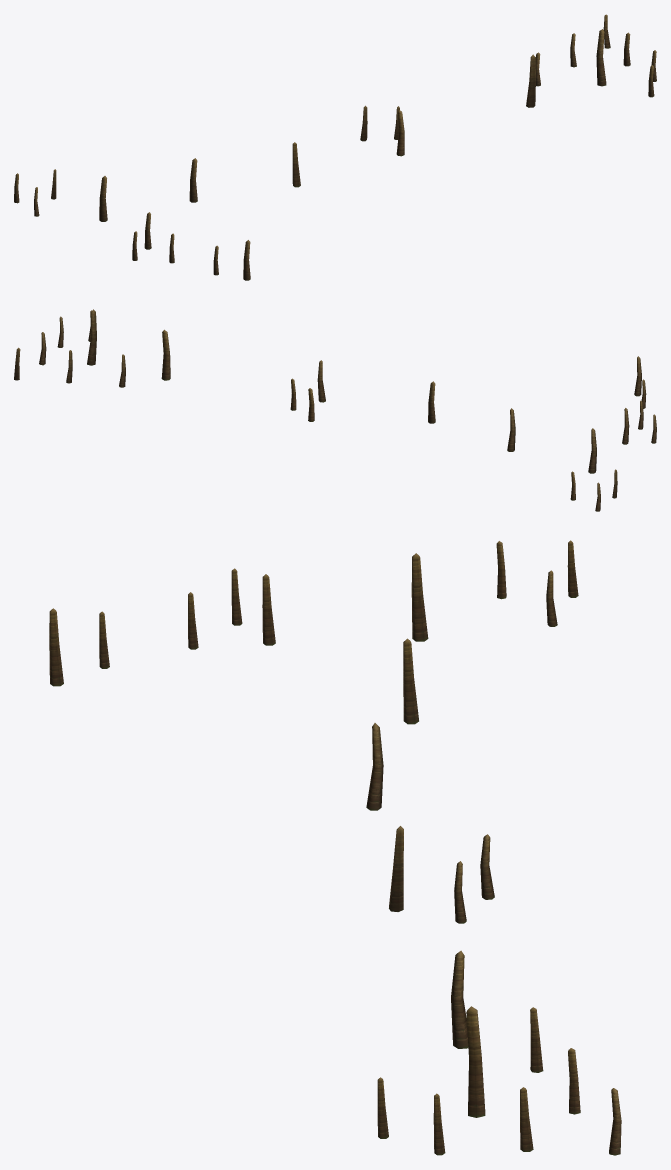
File: shugan01.fbx
The picture shows the model from 3 angles, top to bottom: view 1: azimuth 30°, elevation 25°; view 2: azimuth 150°, elevation 25°; view 3: azimuth 270°, elevation 25°; orthographic projection. The views are drawn at different scales.
Parts seen in each view (by area): view 1: shugan01; view 2: shugan01; view 3: shugan01.
Boxes of the visible parts, <box> form: shugan01: <box>14,14,656,280</box>; shugan01: <box>14,309,656,511</box>; shugan01: <box>49,540,621,1155</box>.
Size of the model in its own units: 10048 by 903 by 4324.
Materials: 1 (1 with a texture image).
